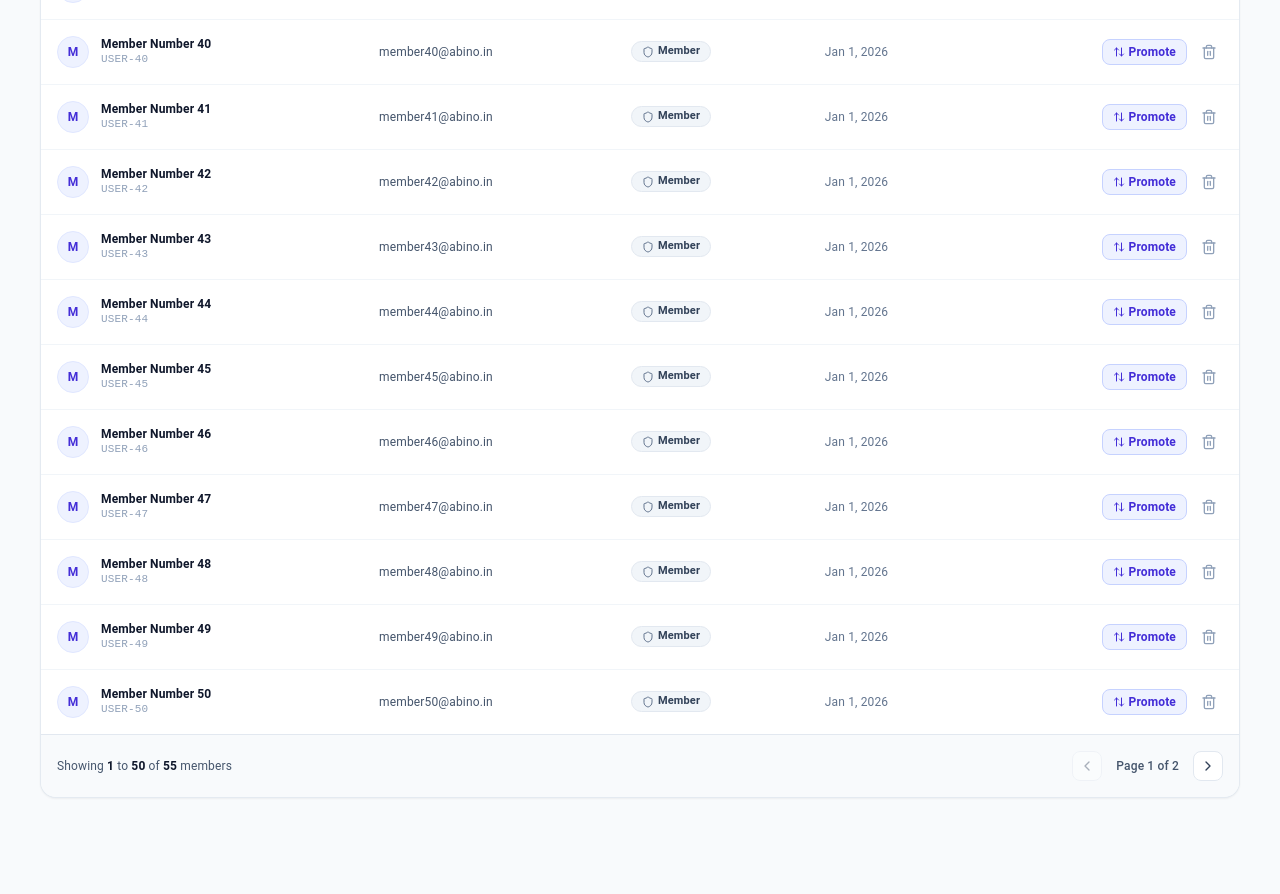
Test: DepartmentMembersPage › paginates members list after 50 members
(page scrolled)
Expected: the text "Member Number 50" is shown, top-left (101, 686), bottom-right (211, 702)
Expected: the text "Member Number 51" is not shown
Note: Navigate to page 2
Click the button titled "Next page" at (1208, 766), box top-left (1193, 750), bottom-right (1223, 780)
(page scrolled)
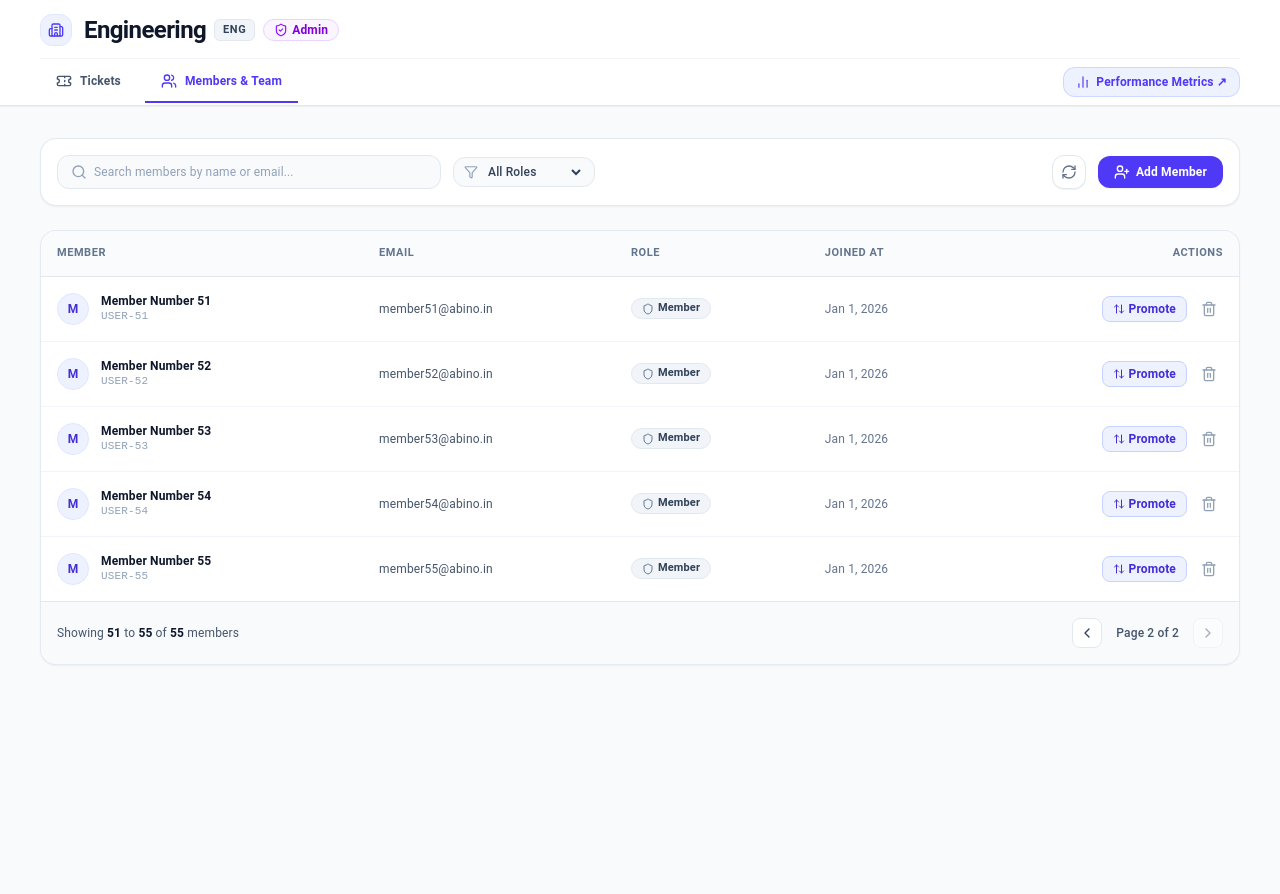
Now the text "Member Number 51" is shown, box top-left (101, 293), bottom-right (211, 309)
Now the text "Member Number 55" is shown, box top-left (101, 553), bottom-right (211, 569)
Now the text "Page 2 of 2" is shown, box top-left (1116, 626), bottom-right (1179, 640)
